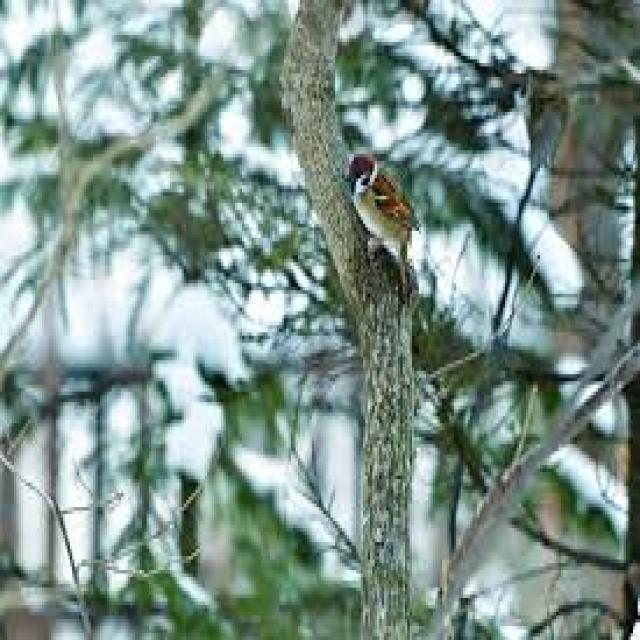bird: (345, 150, 420, 268)
